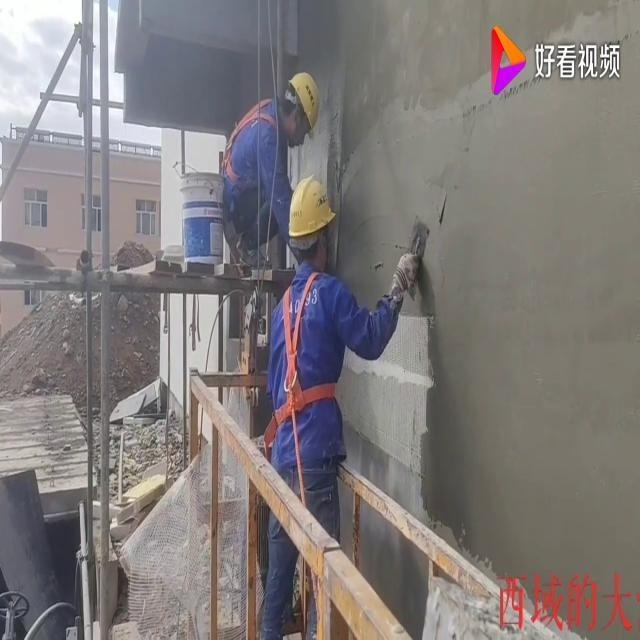Arnes_seguridad: (267, 263, 347, 437), (220, 90, 287, 188)
